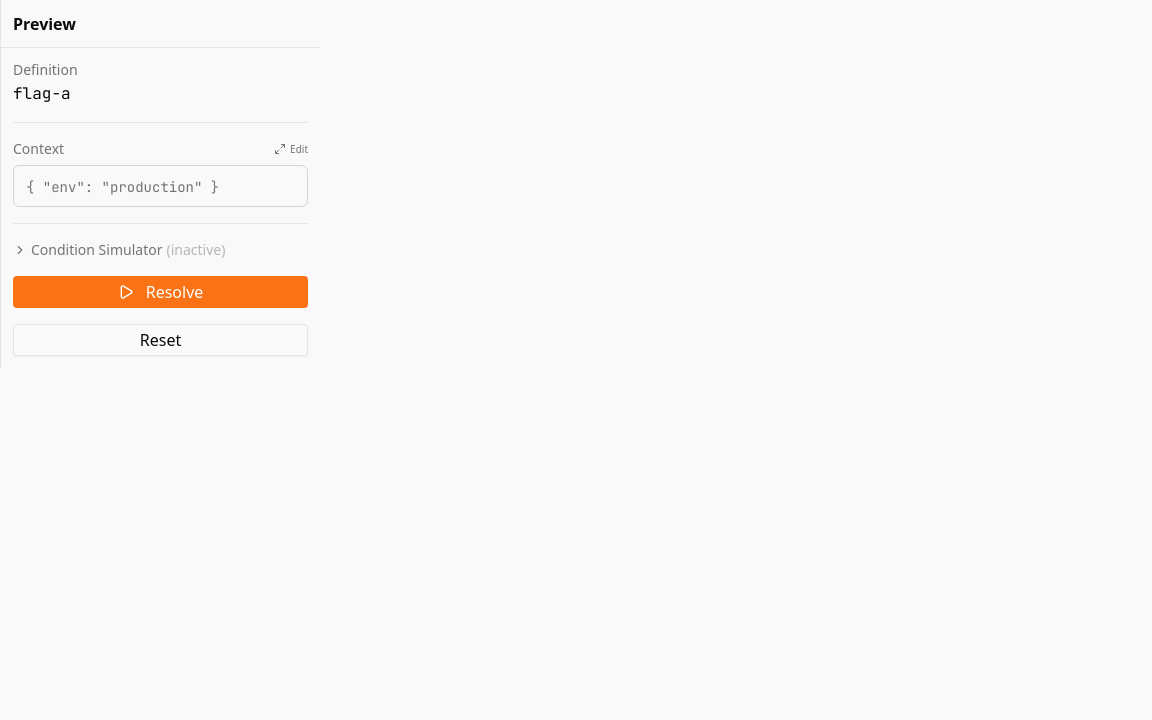
Test case: PreviewPanel › should show evaluation meta icon on success and open dialog
What coordinates should you click on to do the following:
click the button "Resolve"
I would click on:
 (160, 292)
Its box is [13, 276, 308, 308].
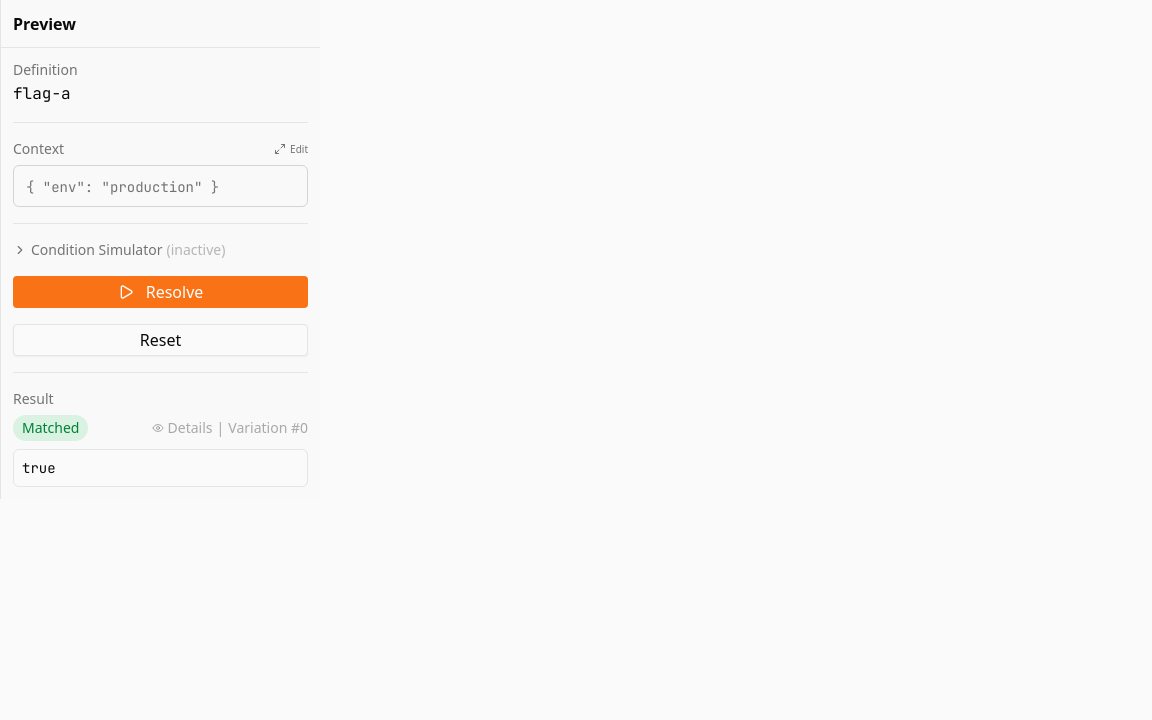
Expected: the button with aria-label "view evaluation meta" is shown
What coordinates should you click on to do the following:
click the button with aria-label "view evaluation meta"
I would click on:
 (230, 428)
Its box is [152, 418, 308, 438].
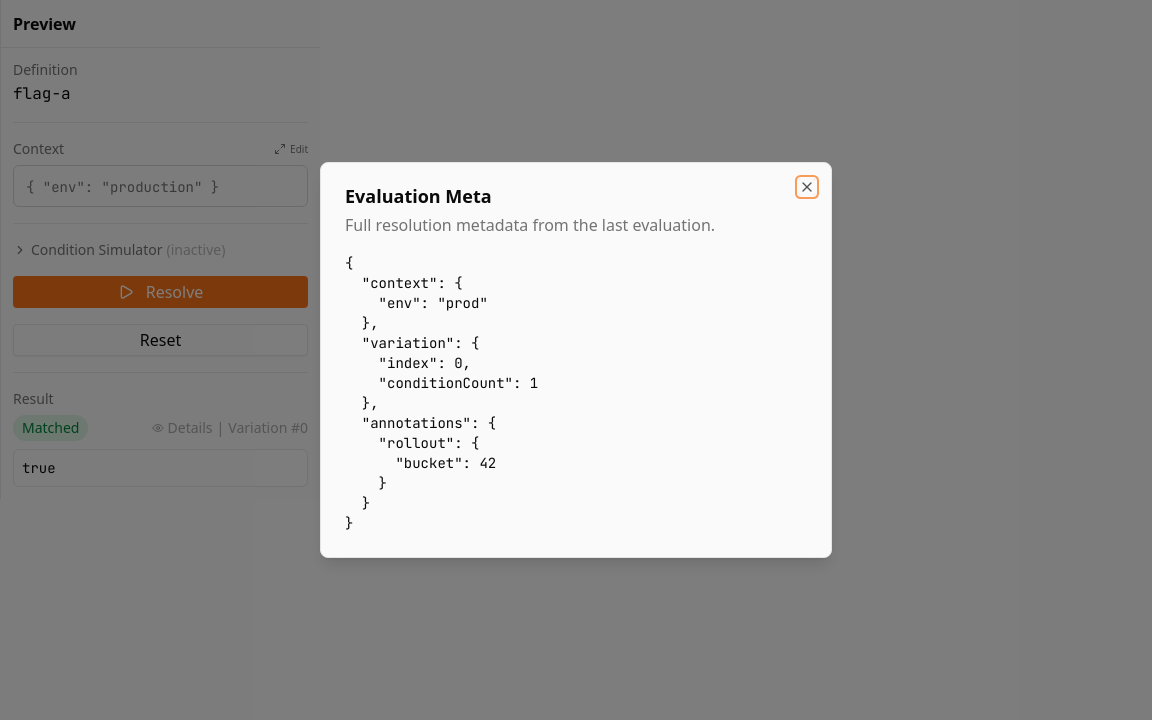
Expected: the heading "Evaluation Meta" is shown, [345, 184, 492, 208]
Expected: the text "\"bucket\": 42" is shown, [345, 254, 538, 532]
